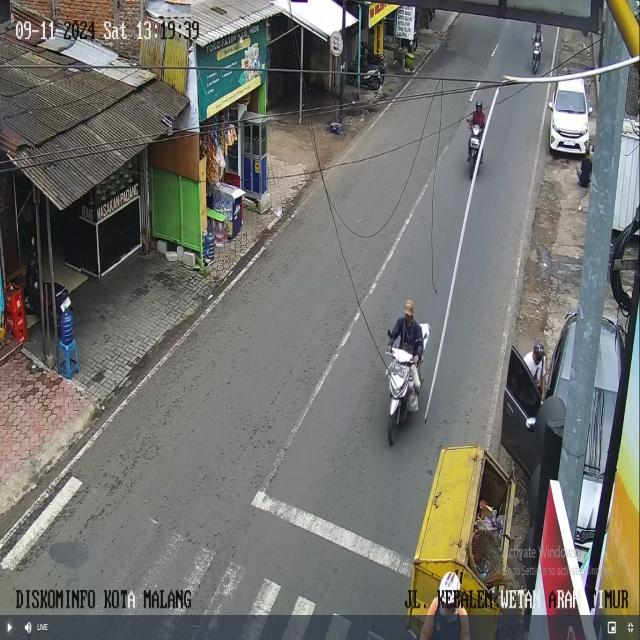Helmet: (438, 571, 460, 607), (533, 340, 545, 356), (476, 100, 482, 109)
Rearview Mirror: (526, 417, 535, 430), (548, 102, 553, 110), (588, 107, 593, 114), (387, 330, 391, 338)
